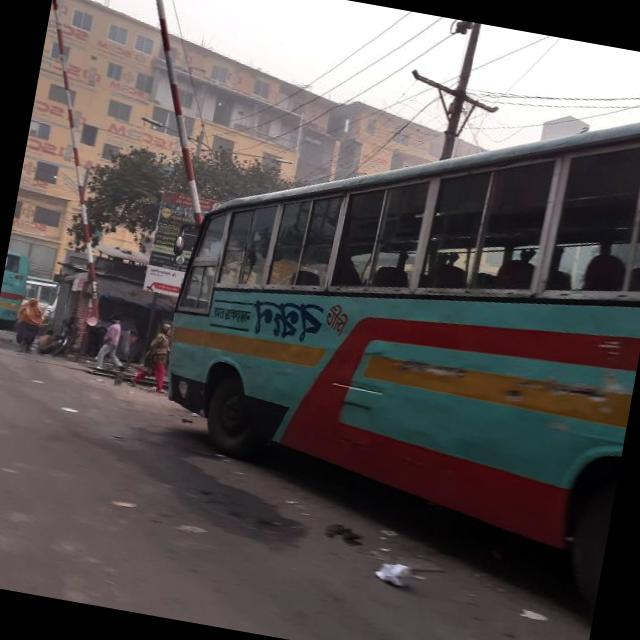bus: (146, 32, 640, 560), (0, 252, 32, 333)
